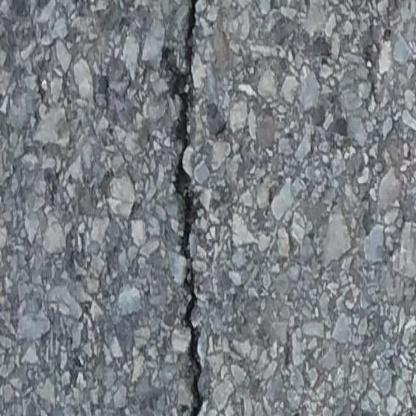Cracks: (158, 0, 211, 416)
